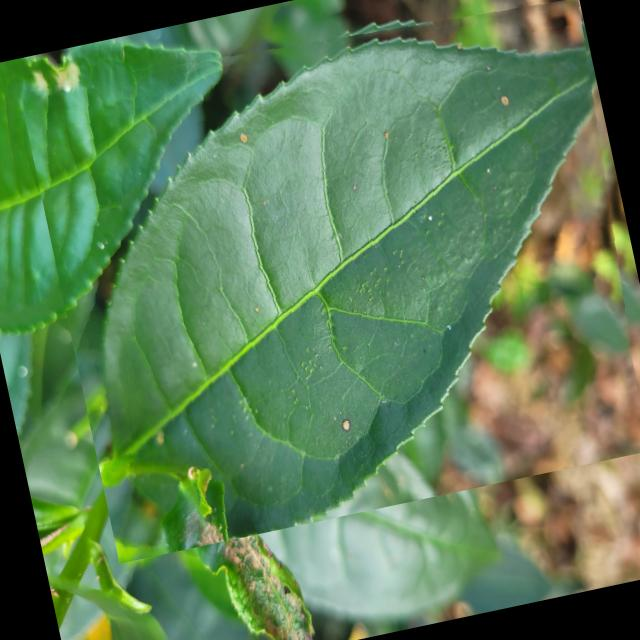Category D(7+ days, Not for Tea): (19, 0, 640, 562)
